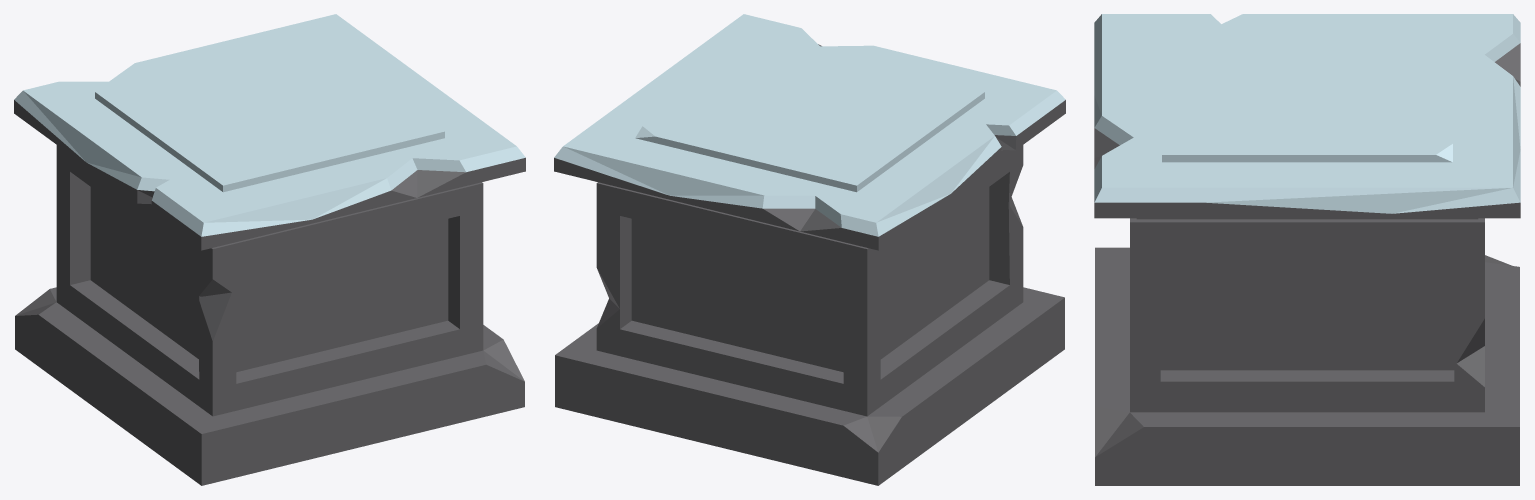
The model's file is SM_Prop_Plinth_02_Snow.gltf.
3 views of the same model, side by side, from view 1: azimuth 30°, elevation 25°; view 2: azimuth 150°, elevation 25°; view 3: azimuth 270°, elevation 25° (orthographic). The views are drawn at different scales.
Visible parts, largest first — view 1: SM_Prop_Plinth_02_Snow; view 2: SM_Prop_Plinth_02_Snow; view 3: SM_Prop_Plinth_02_Snow.
Part boxes in pixels (left/top/right/bottom): SM_Prop_Plinth_02_Snow: left=14, top=14, right=525, bottom=485; SM_Prop_Plinth_02_Snow: left=554, top=14, right=1065, bottom=485; SM_Prop_Plinth_02_Snow: left=1094, top=14, right=1520, bottom=485.
Size of the model in its own units: 3.1 by 2.43 by 3.1.
Materials: 1 (1 with a texture image).
